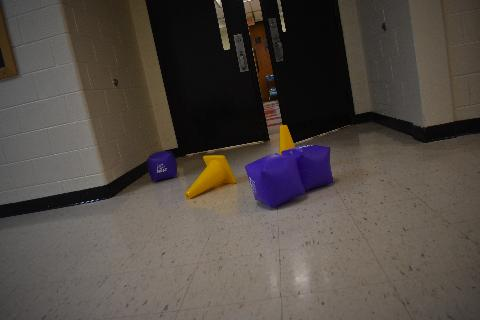cone: (186, 156, 236, 198), (280, 125, 296, 155)
cube: (245, 154, 305, 208), (282, 144, 334, 190), (148, 151, 178, 181)
